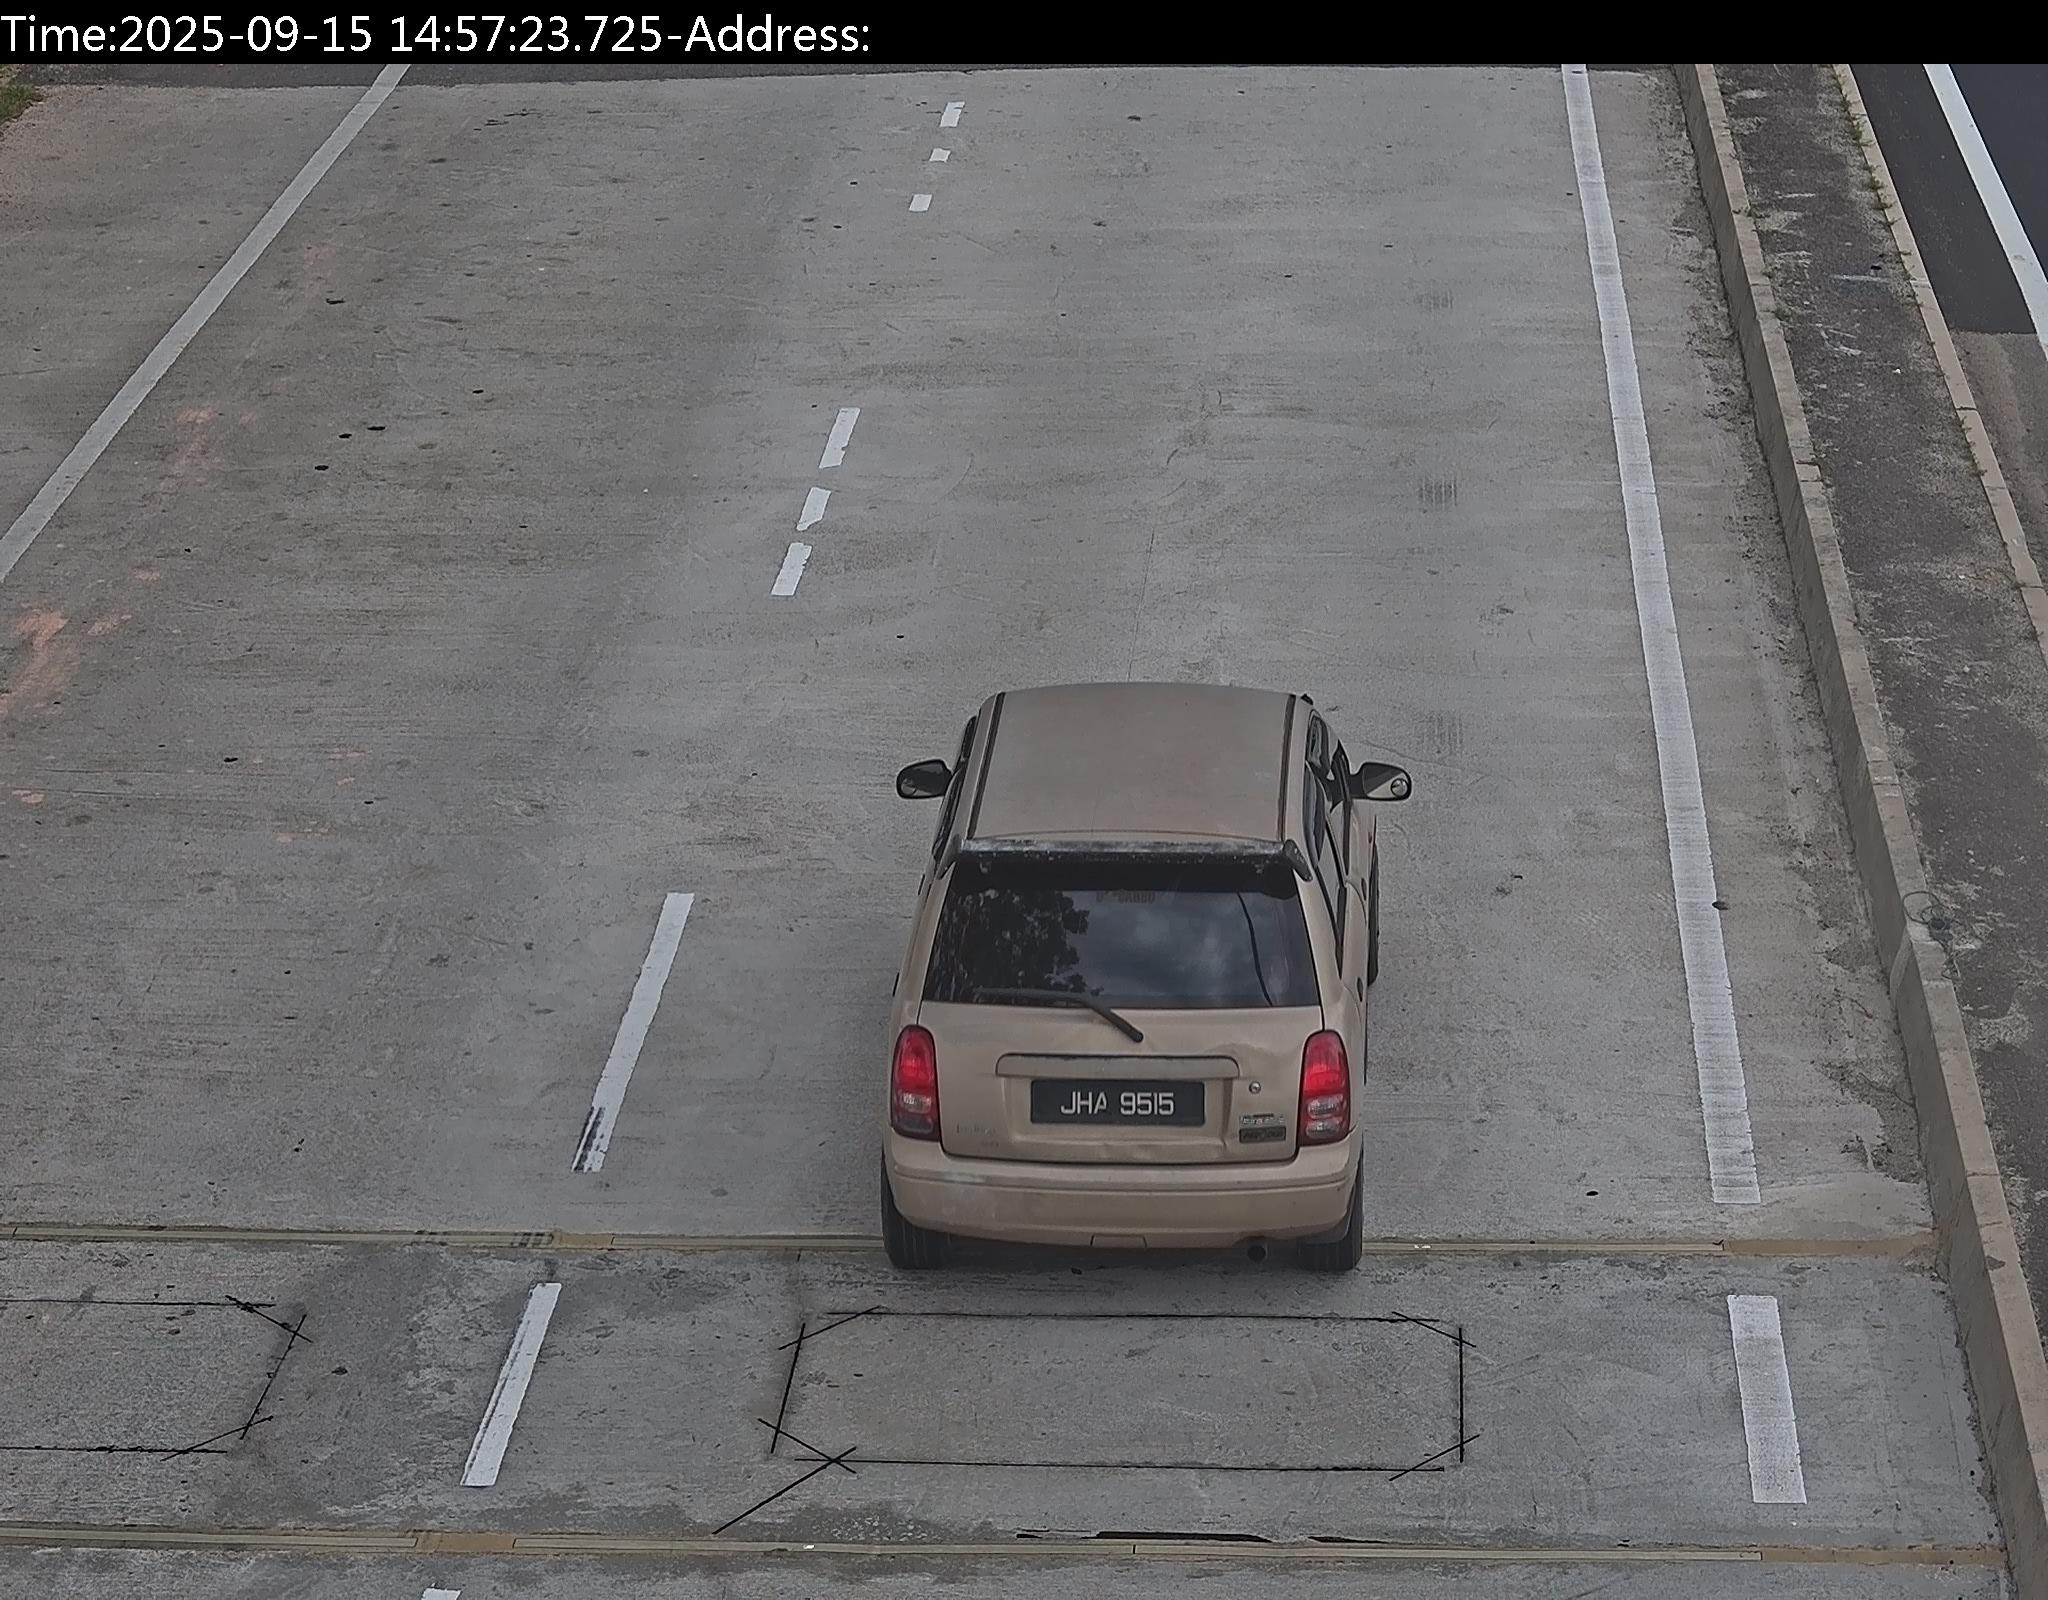broken: (1033, 1077, 1198, 1120)
